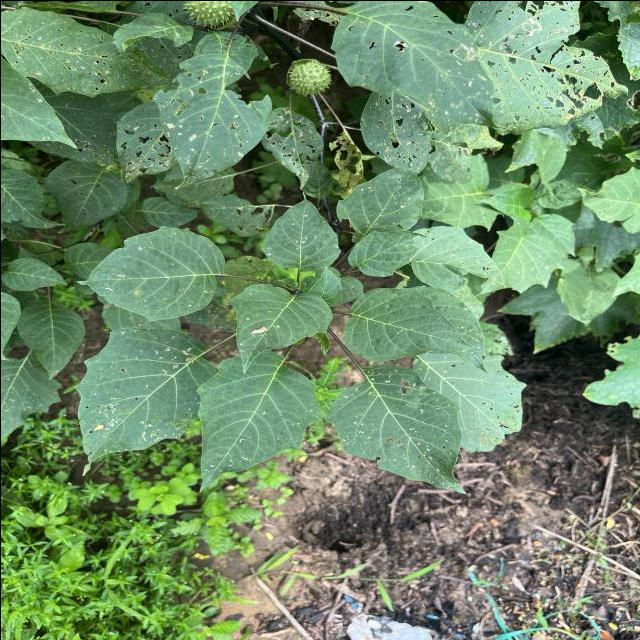Datura metal linn: (328, 0, 510, 132), (71, 324, 216, 478), (322, 362, 470, 494), (192, 350, 326, 494), (71, 221, 230, 323), (341, 286, 478, 364), (222, 280, 334, 374), (258, 188, 342, 272), (345, 227, 429, 278)
